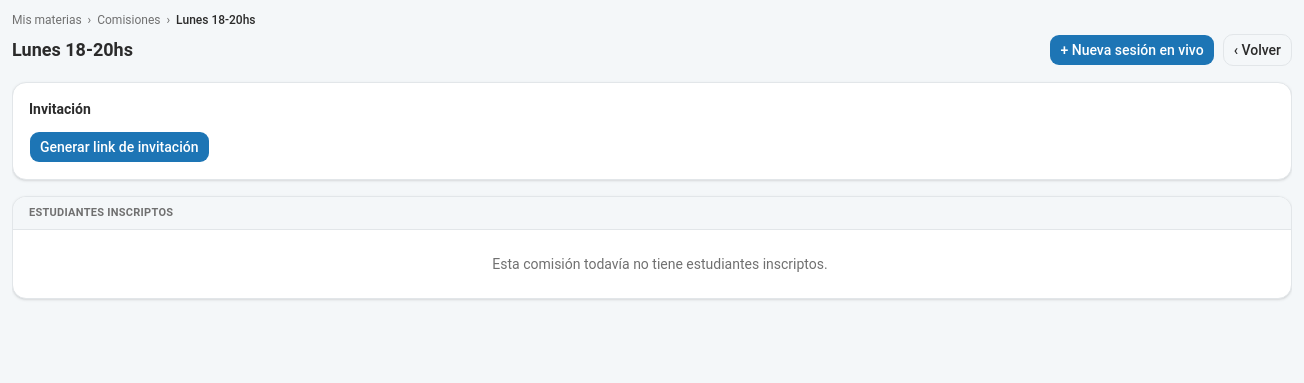
Test case: ComisionDetalleDocente › copia el link generado al portapapeles
Expected: the heading "Lunes 18-20hs" is shown, [12, 36, 133, 64]
Click the button "Generar link de invitación": point(119, 147) [29, 131, 210, 163]
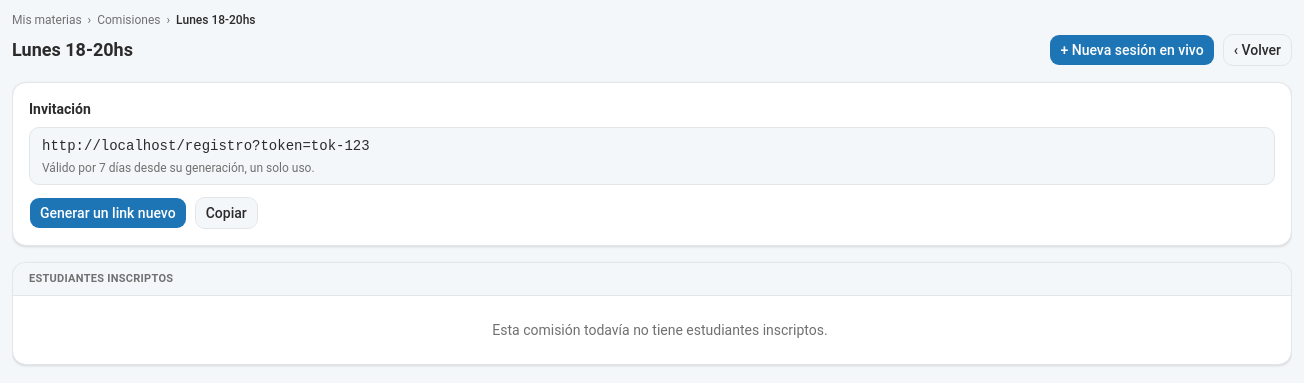
Now the text "http://localhost/registro?token=tok-123" is shown, box [42, 138, 370, 154]
Click the button "Copiar": point(226, 213) [195, 197, 258, 229]
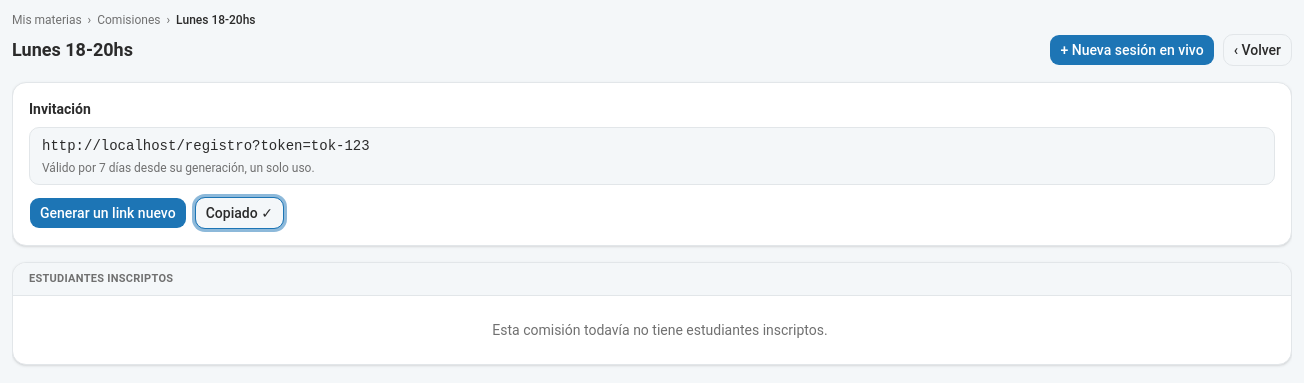
Now the button "Copiado ✓" is shown, box [195, 197, 284, 229]
